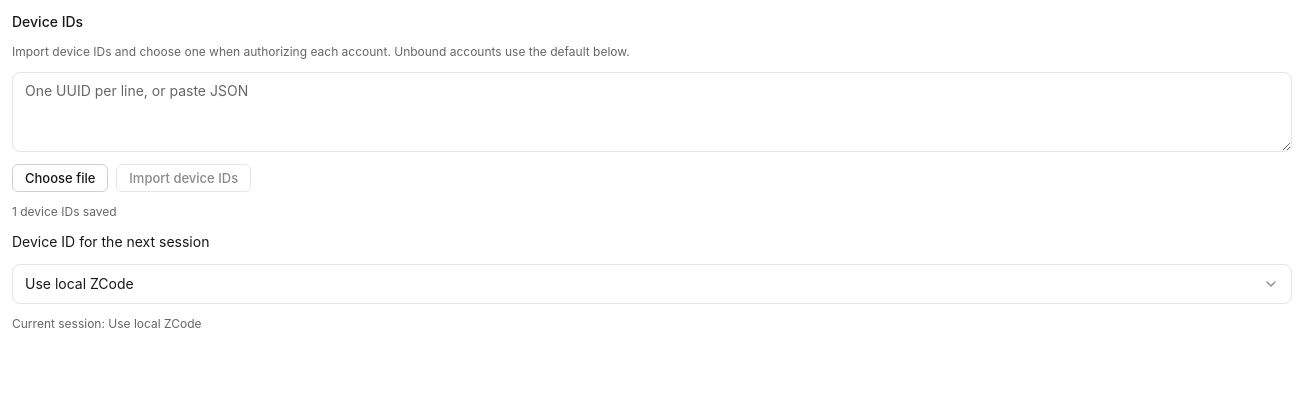
it: selects an imported ID explicitly and reports the restart boundary
Press Enter in the dropdown, box [12,264,1292,304]
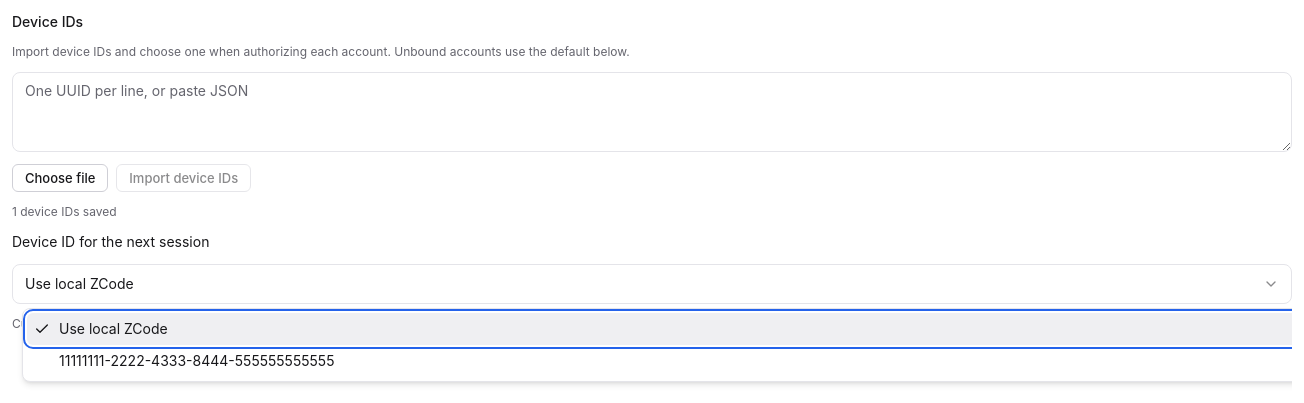
Click the option "11111111-2222-4333-8444-555555555555".
click(197, 360)  # box [59,352,334,369]
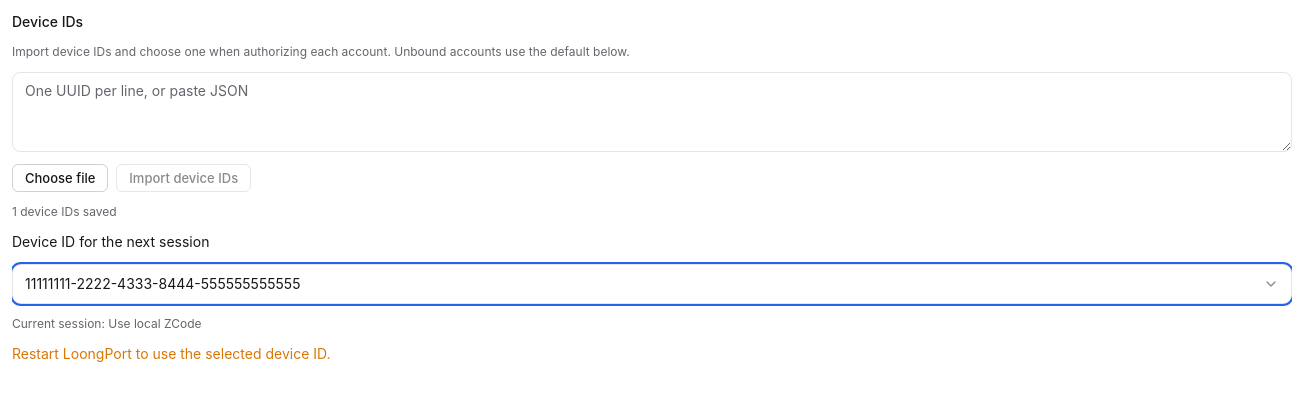
Check: the message shows "Restart LoongPort", box [12,345,330,362]
